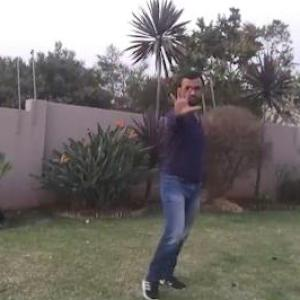follow_hand: (168, 82, 203, 118)
